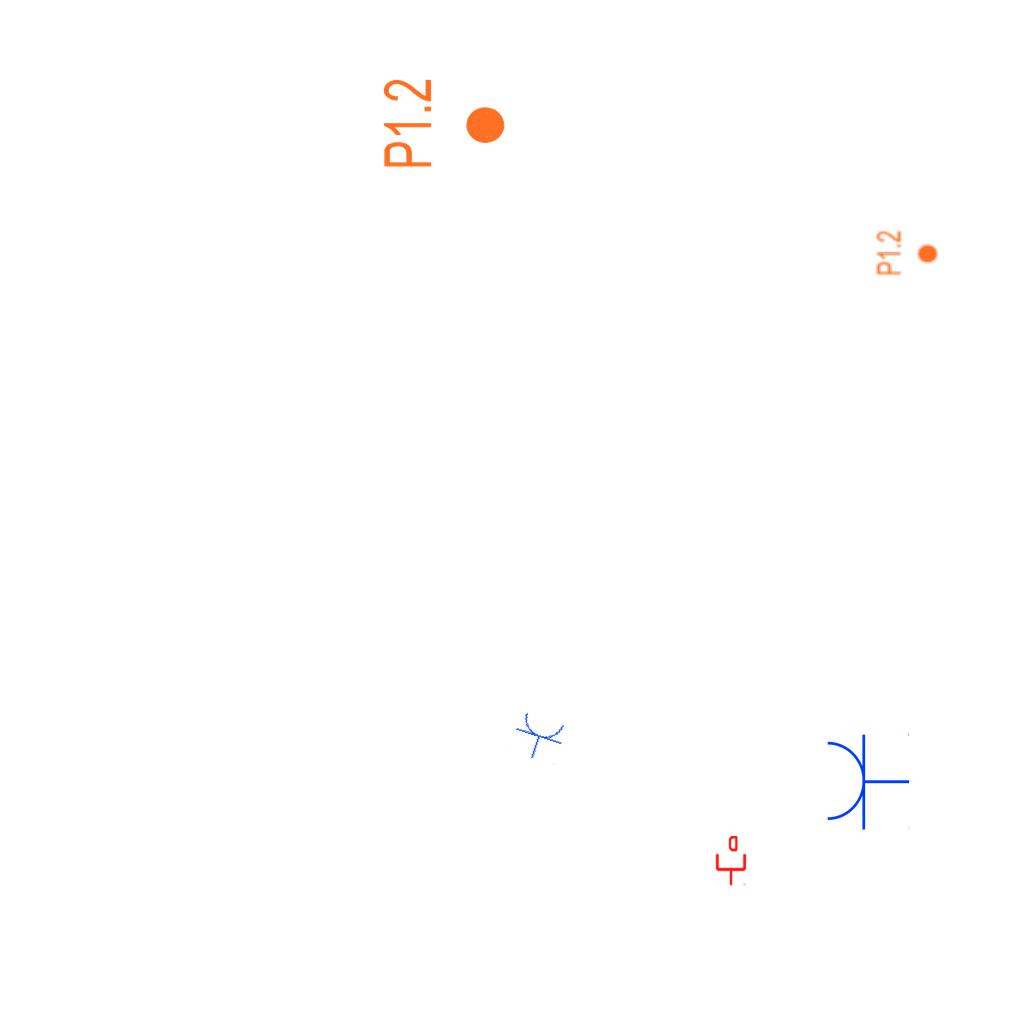Datenanschluss_einfach: (714, 836, 748, 886)
Downlight_LED_Einbauleuchten_Flur: (380, 77, 508, 170), (875, 230, 939, 276)
Schukosteckdose_einfach: (823, 731, 910, 831), (508, 709, 570, 766)
